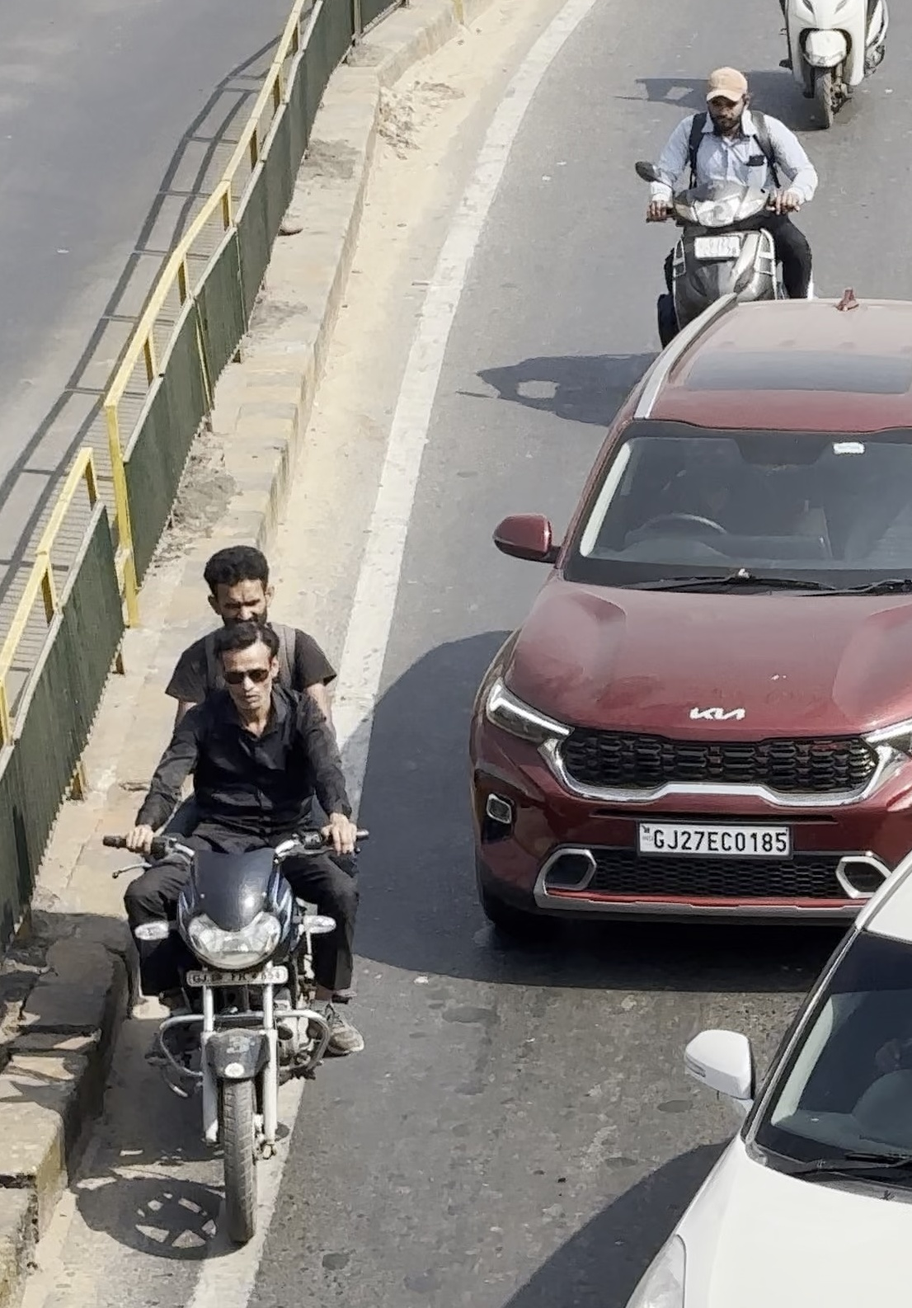BikeWithRider: (90, 534, 383, 1254), (623, 57, 830, 368)
NoHelmet: (193, 617, 296, 726), (190, 538, 284, 641), (692, 59, 763, 134)
